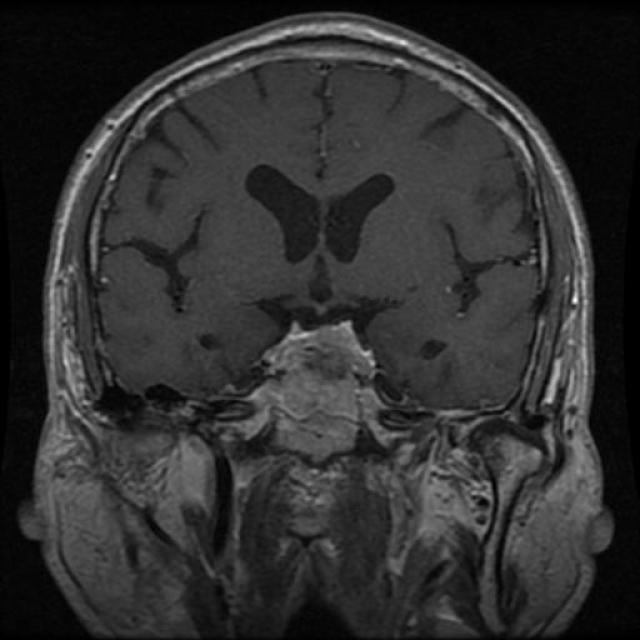pituitary: (272, 318, 361, 441)
